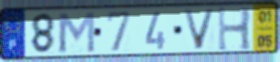4: (144, 11, 167, 51)
7: (106, 9, 132, 53)
8: (29, 12, 58, 55)
H: (216, 6, 253, 53)
M: (56, 10, 97, 54)
V: (182, 8, 218, 51)
